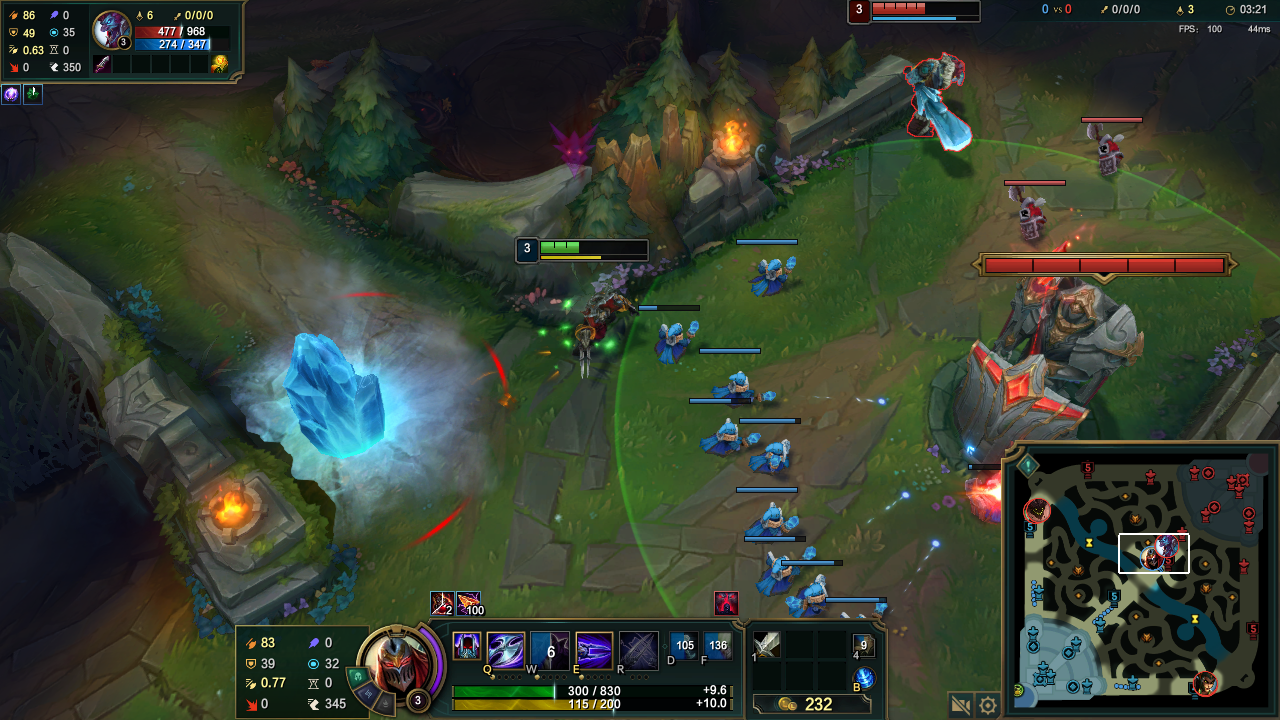DFYX: (873, 1, 981, 13)
